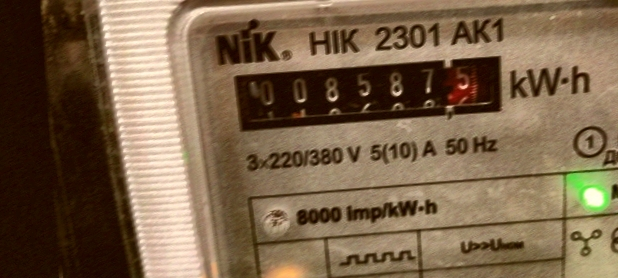0: (257, 77, 276, 107), (291, 76, 310, 105)
5: (454, 64, 473, 94), (354, 71, 373, 100)
7: (418, 65, 437, 96)
8: (386, 68, 405, 99), (323, 75, 341, 104)
screen: (215, 40, 522, 144)
